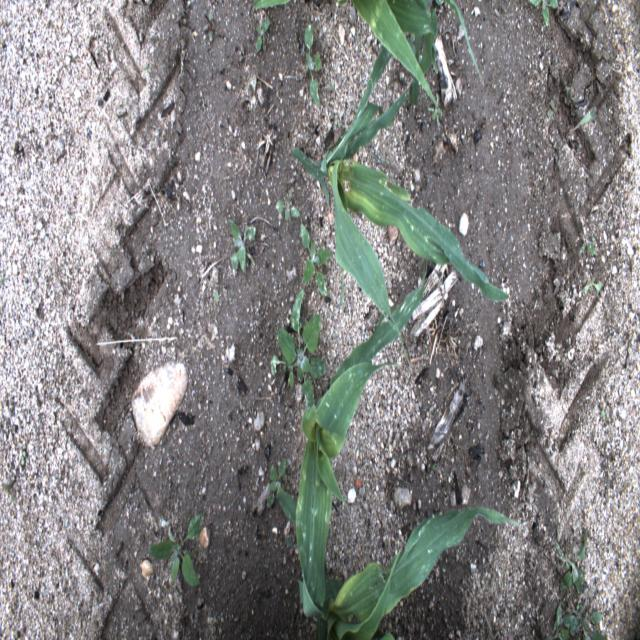crop: (292, 32, 509, 375), (296, 261, 427, 620), (275, 491, 522, 638), (253, 0, 482, 118)
weed: (270, 290, 328, 410), (148, 511, 205, 588), (300, 222, 332, 298), (554, 527, 586, 597), (302, 22, 324, 106), (563, 603, 609, 639), (227, 218, 256, 274), (544, 600, 569, 639), (567, 105, 598, 136), (266, 458, 286, 506), (528, 0, 559, 30), (275, 194, 301, 224), (255, 17, 270, 54), (578, 233, 597, 259), (429, 93, 443, 128), (202, 11, 216, 43), (582, 276, 603, 295), (2, 482, 15, 503), (546, 97, 557, 118), (563, 82, 571, 108), (20, 448, 28, 468), (212, 289, 220, 302), (326, 81, 335, 91), (600, 408, 606, 422), (144, 65, 152, 75), (431, 460, 437, 472)
